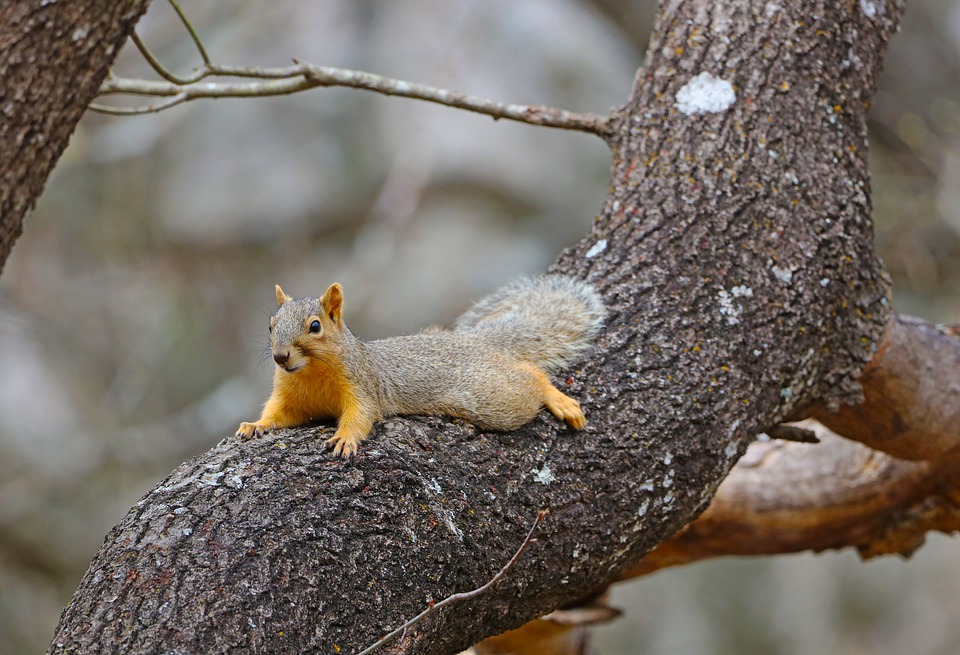squirrel: (232, 270, 612, 461)
